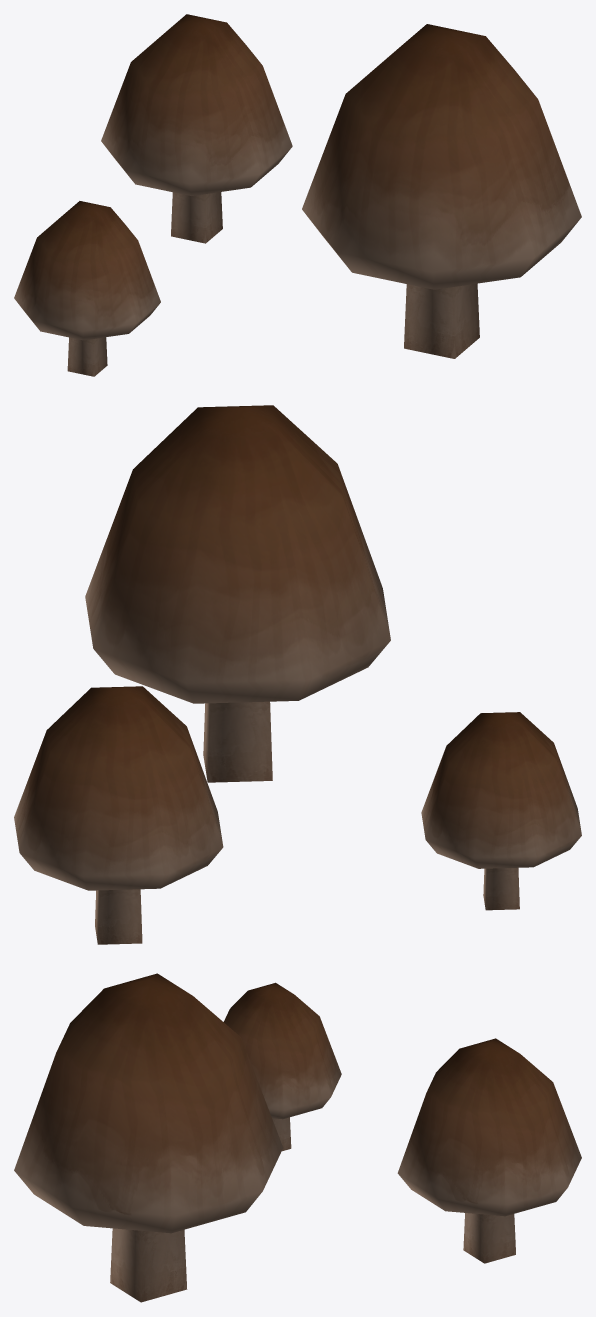
The model's file is Mushrooms_02.fbx.
3 views of the same model, one above another, from view 1: azimuth 30°, elevation 25°; view 2: azimuth 150°, elevation 25°; view 3: azimuth 270°, elevation 25° (orthographic). The views are drawn at different scales.
Visible parts, largest first — view 1: Mushrooms02; view 2: Mushrooms02; view 3: Mushrooms02.
Part boxes in pixels (<box>): Mushrooms02: <box>14,14,581,376</box>; Mushrooms02: <box>14,405,581,944</box>; Mushrooms02: <box>14,973,581,1302</box>.
Size of the model in its own units: 0.3276 by 0.2068 by 0.3479.
1 material, 1 textured.
